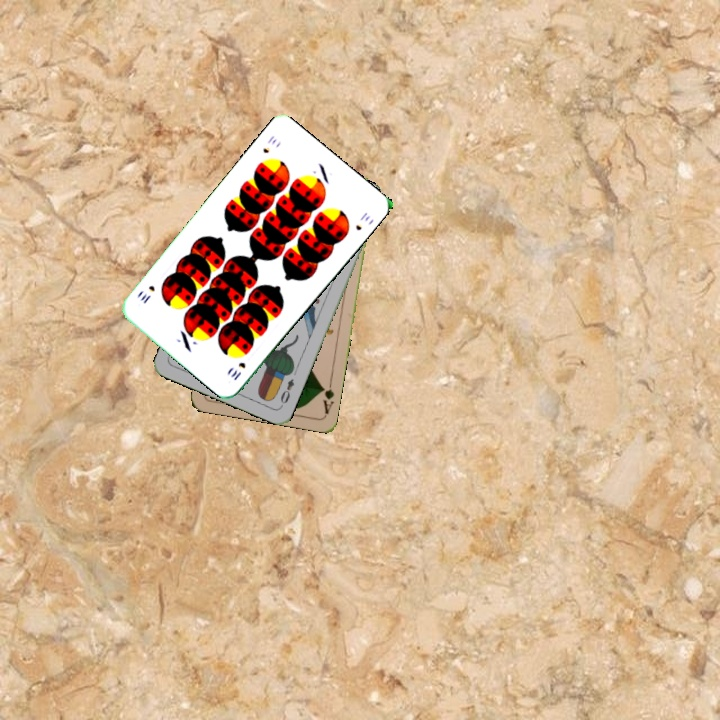EO: (276, 375, 297, 409)
GA: (317, 376, 337, 417)
S10: (227, 358, 248, 383), (259, 131, 280, 156)
